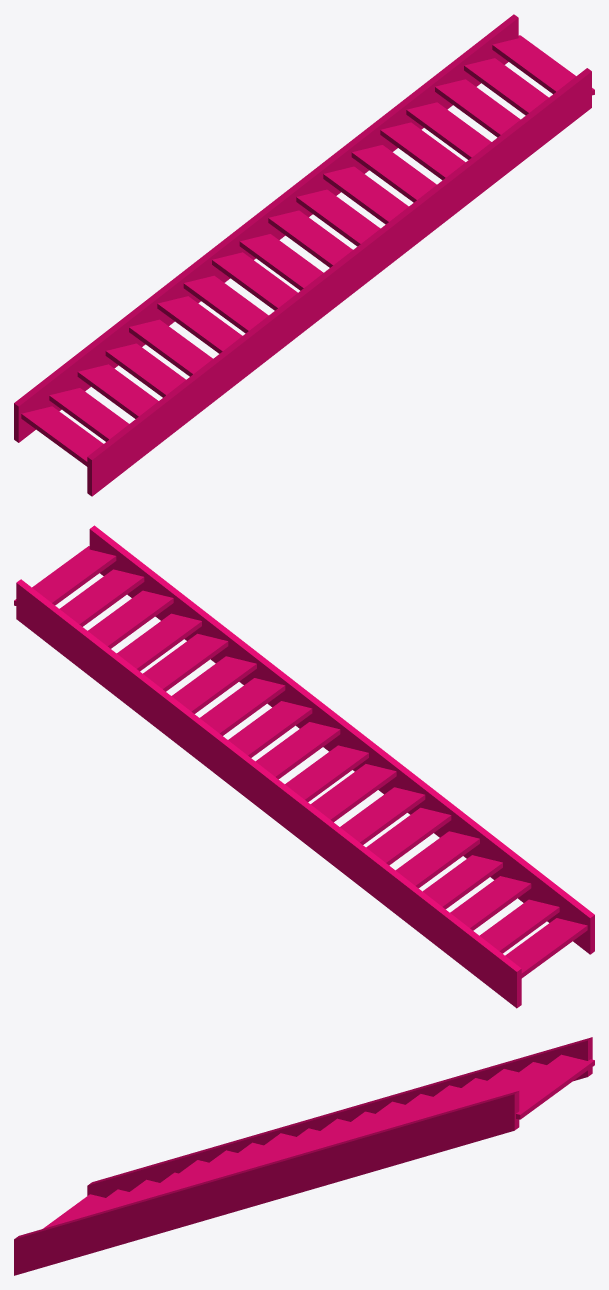
The model's file is Bastion_Stair_01_Lod0.fbx.
The picture shows the model from 3 angles, top to bottom: view 1: azimuth 30°, elevation 25°; view 2: azimuth 150°, elevation 25°; view 3: azimuth 330°, elevation 25°; orthographic projection.
Visible parts, largest first — view 1: Bastion_Stair_01_Lod0; view 2: Bastion_Stair_01_Lod0; view 3: Bastion_Stair_01_Lod0.
Part boxes in pixels (box(x1,y1,x2,y2)): Bastion_Stair_01_Lod0: box(14, 14, 594, 496); Bastion_Stair_01_Lod0: box(14, 525, 594, 1008); Bastion_Stair_01_Lod0: box(14, 1037, 594, 1275).
Size of the model in its own units: 580 by 333 by 155.
